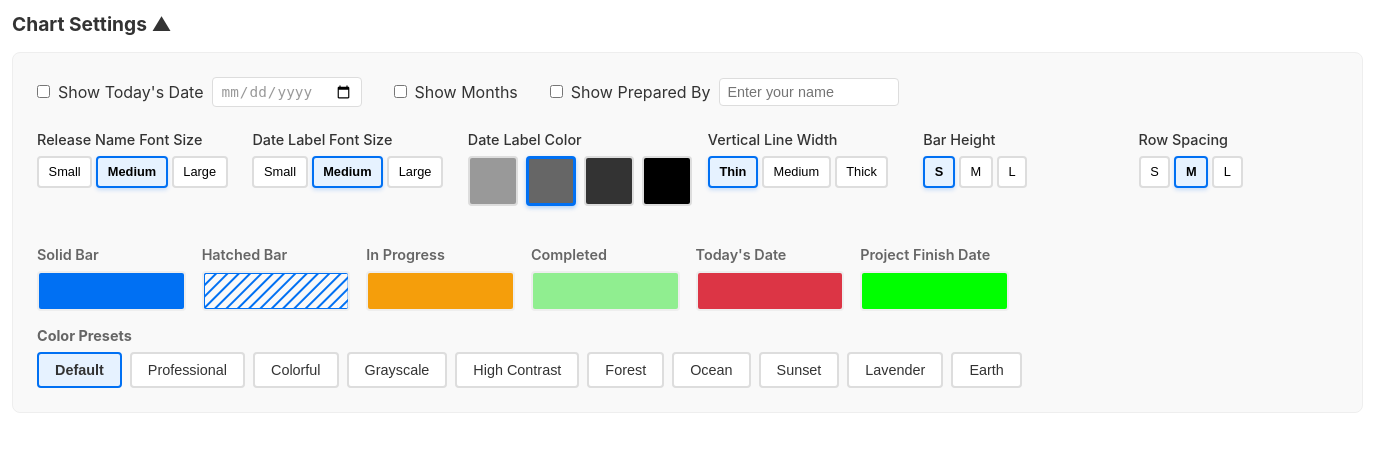
it: ChartSettings › status date (v0.28.0) › warns while the typed date is not a usable date
In the date field named "Status date": (286, 92) [212,77,362,107], type "1999-01-01"
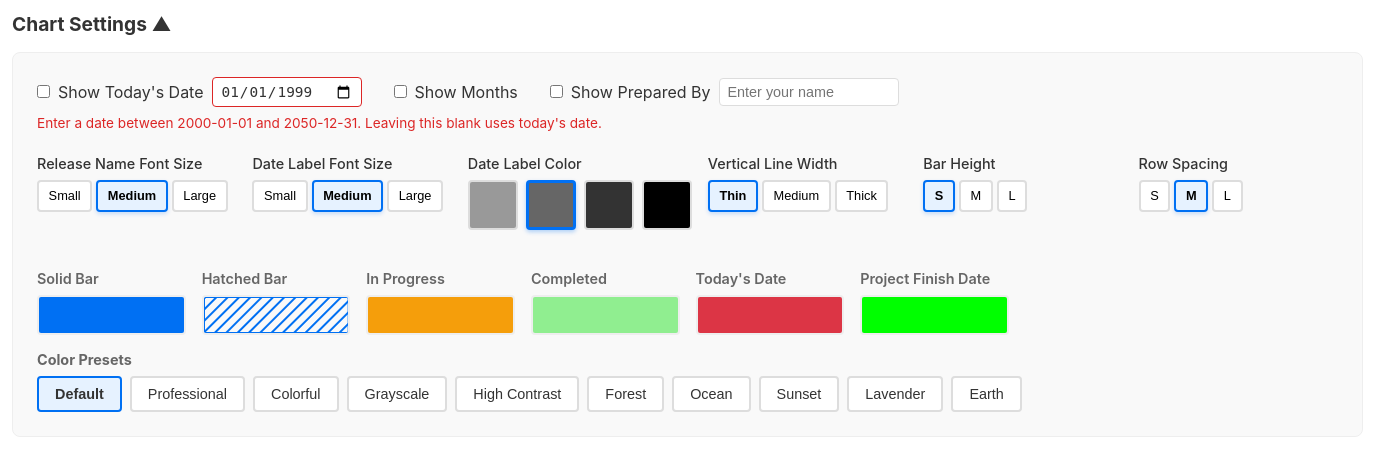
Check: the text "between 2000-01-01 and 2050-12-31" is shown, box [37,115,602,131]
